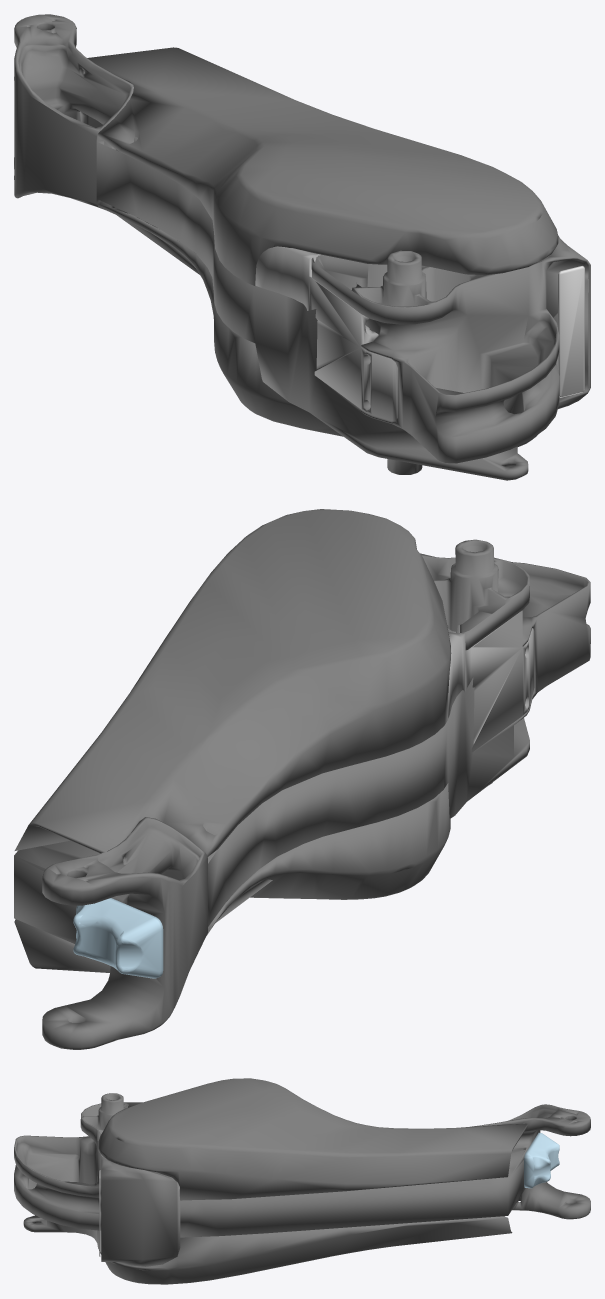
Rendered from LeftShin.obj.
3 renders of one model, top to bottom at view 1: azimuth 30°, elevation 25°; view 2: azimuth 150°, elevation 25°; view 3: azimuth 270°, elevation 25°, orthographic. The views are drawn at different scales.
Parts seen in each view (by area): view 1: LeftShin_Material__75, LeftShin_Material__74, LeftShin_Material__76; view 2: LeftShin_Material__75, LeftShin_Material__74, LeftShin_Material__77; view 3: LeftShin_Material__75, LeftShin_Material__77.
Part boxes in pixels (box(x1,y1,x2,y2)): LeftShin_Material__75: box(14, 14, 590, 480); LeftShin_Material__74: box(255, 246, 397, 421); LeftShin_Material__76: box(558, 266, 584, 397); LeftShin_Material__75: box(14, 509, 590, 1049); LeftShin_Material__74: box(448, 610, 534, 752); LeftShin_Material__77: box(73, 898, 163, 978); LeftShin_Material__75: box(14, 1078, 590, 1284); LeftShin_Material__77: box(524, 1132, 559, 1188).
Bounding box in the file's own units: 0.1614 × 0.1403 × 0.5162.
